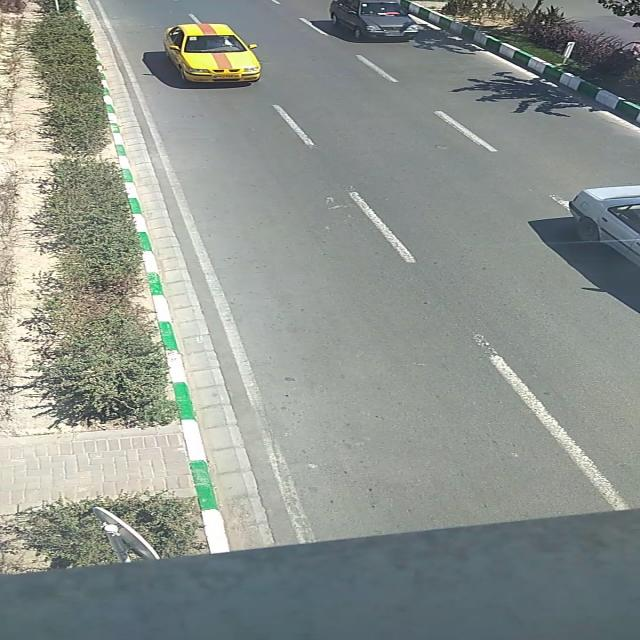car: (571, 184, 640, 271), (164, 24, 260, 86), (329, 0, 418, 40)
